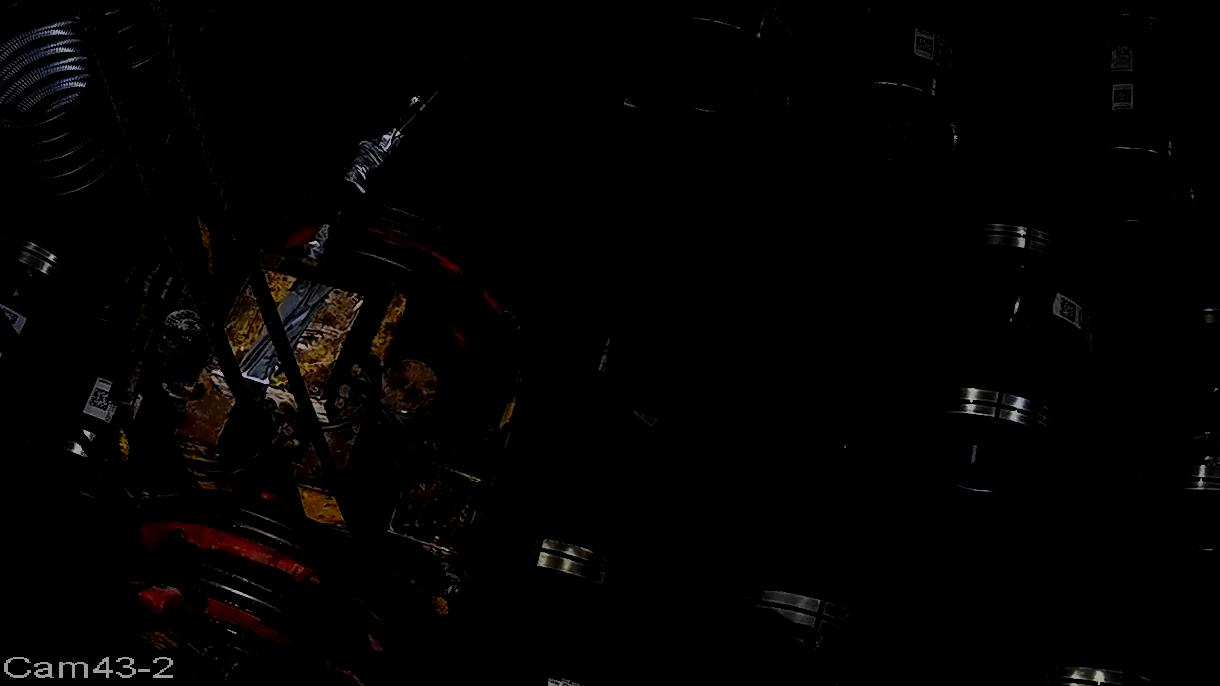data matrix: (1057, 294, 1081, 326), (88, 386, 113, 412), (914, 34, 938, 56), (1112, 86, 1136, 106)
